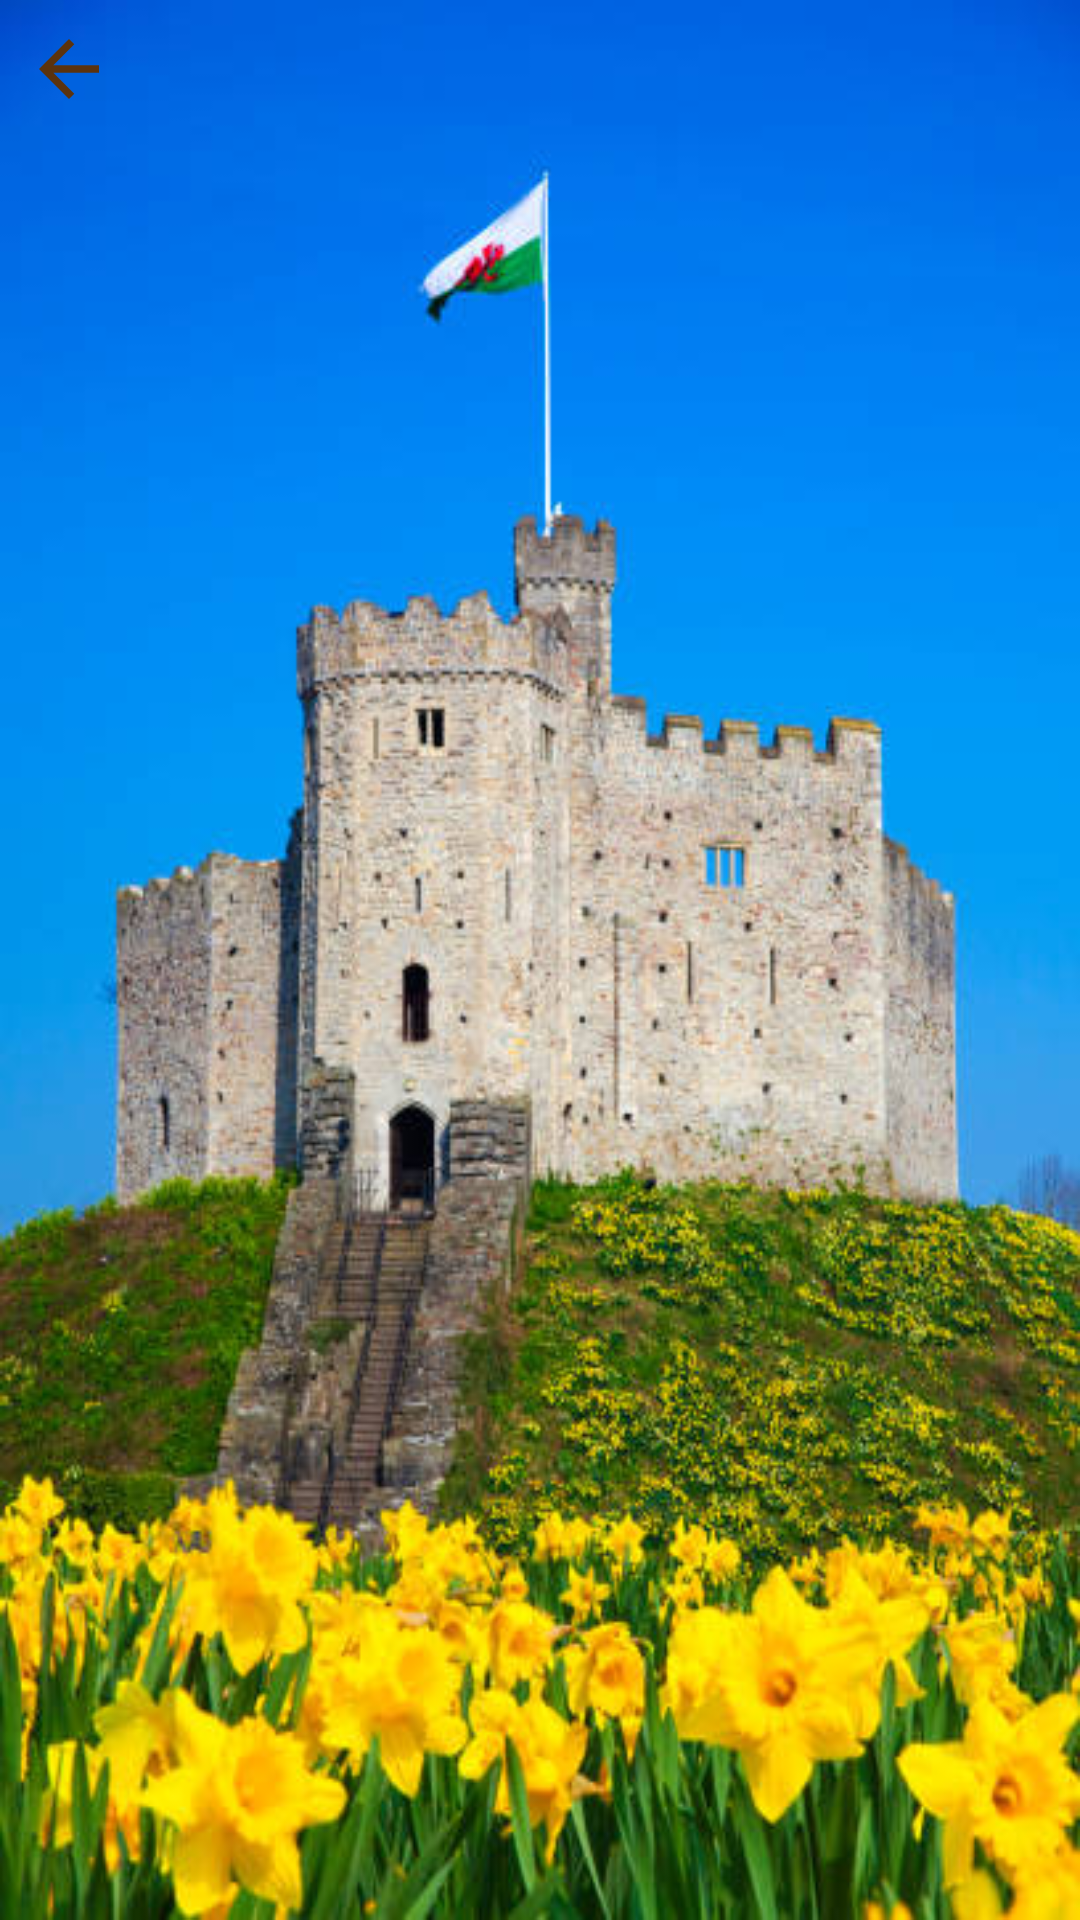

Named icons in this screenshot (1080 × 1920) and their centers, (x,y):
arrow back: (69,69)
